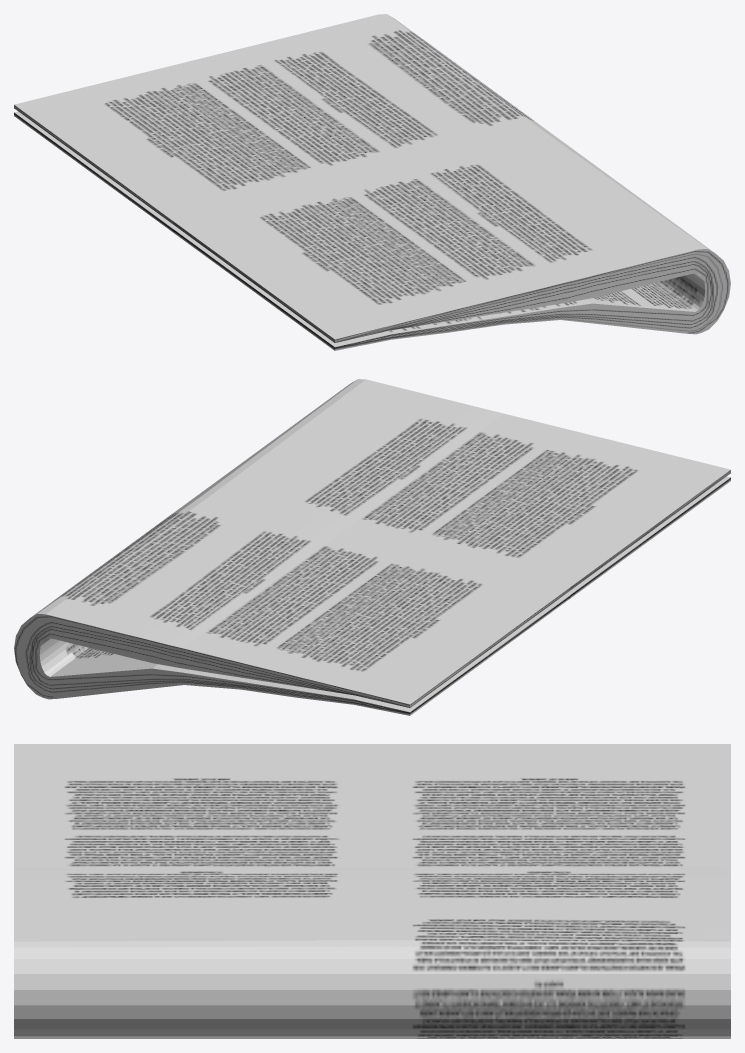
The model's file is Newspaper.fbx.
The picture shows the model from 3 angles, top to bottom: view 1: azimuth 30°, elevation 25°; view 2: azimuth 150°, elevation 25°; view 3: azimuth 270°, elevation 25°; orthographic projection. The views are drawn at different scales.
Parts seen in each view (by area): view 1: Newspaper; view 2: Newspaper; view 3: Newspaper.
Part boxes in pixels (left/top/right/bottom): Newspaper: left=14, top=14, right=730, bottom=350; Newspaper: left=14, top=379, right=730, bottom=715; Newspaper: left=14, top=744, right=730, bottom=1038.
Bounding box in the file's own units: 0.8502 × 0.1754 × 1.19.
